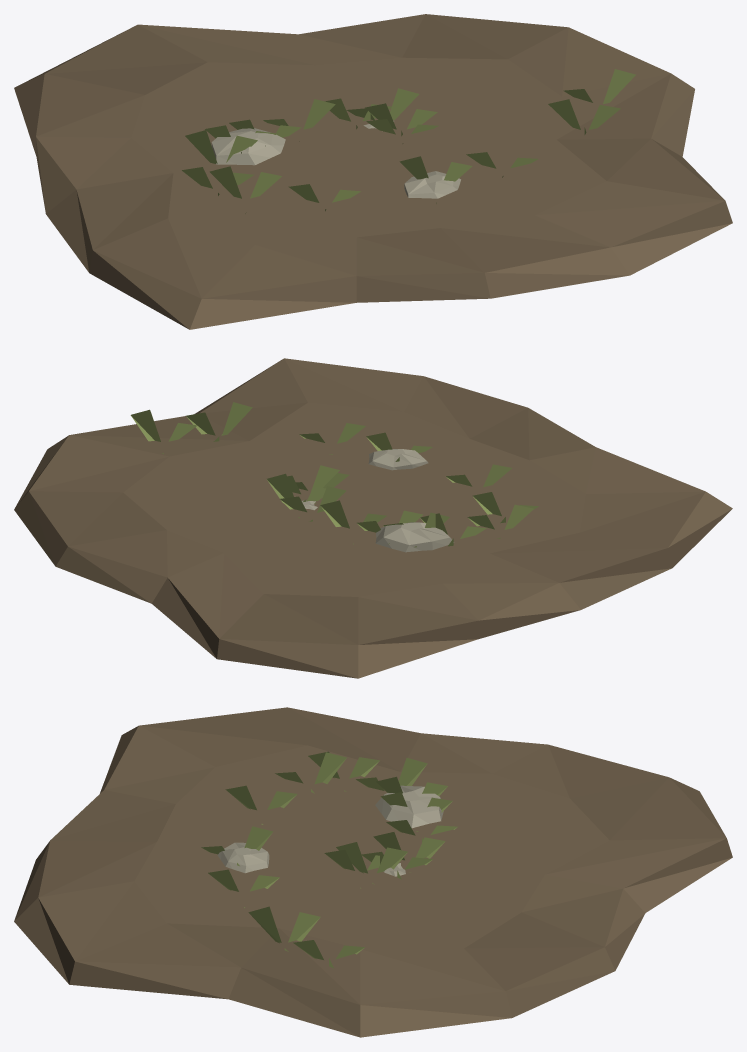
Rendered from grassy-verge.glb.
3 views of the same model, one above another, from view 1: azimuth 30°, elevation 25°; view 2: azimuth 150°, elevation 25°; view 3: azimuth 270°, elevation 25° (orthographic). The views are drawn at different scales.
Parts seen in each view (by area): view 1: grassy-verge; view 2: grassy-verge; view 3: grassy-verge.
Part boxes in pixels (<box>): grassy-verge: <box>14,14,732,329</box>; grassy-verge: <box>14,358,732,678</box>; grassy-verge: <box>14,707,732,1037</box>.
Size of the model in its own units: 4.21 by 0.3504 by 4.11.
